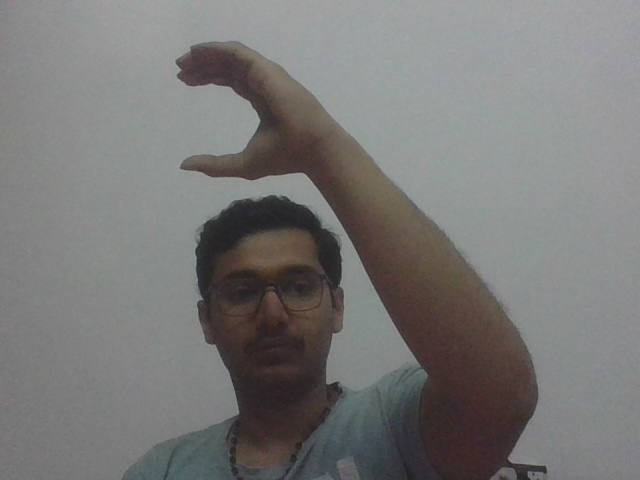C: (164, 36, 333, 185)
